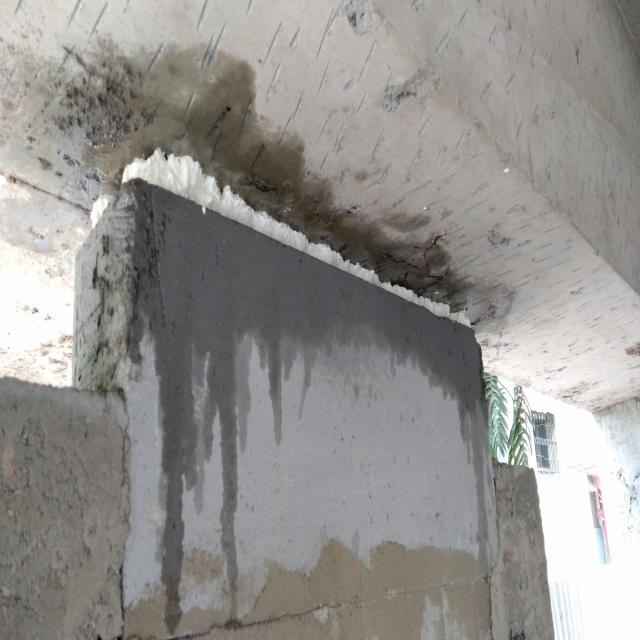Water_Leakage: (6, 30, 480, 613)
